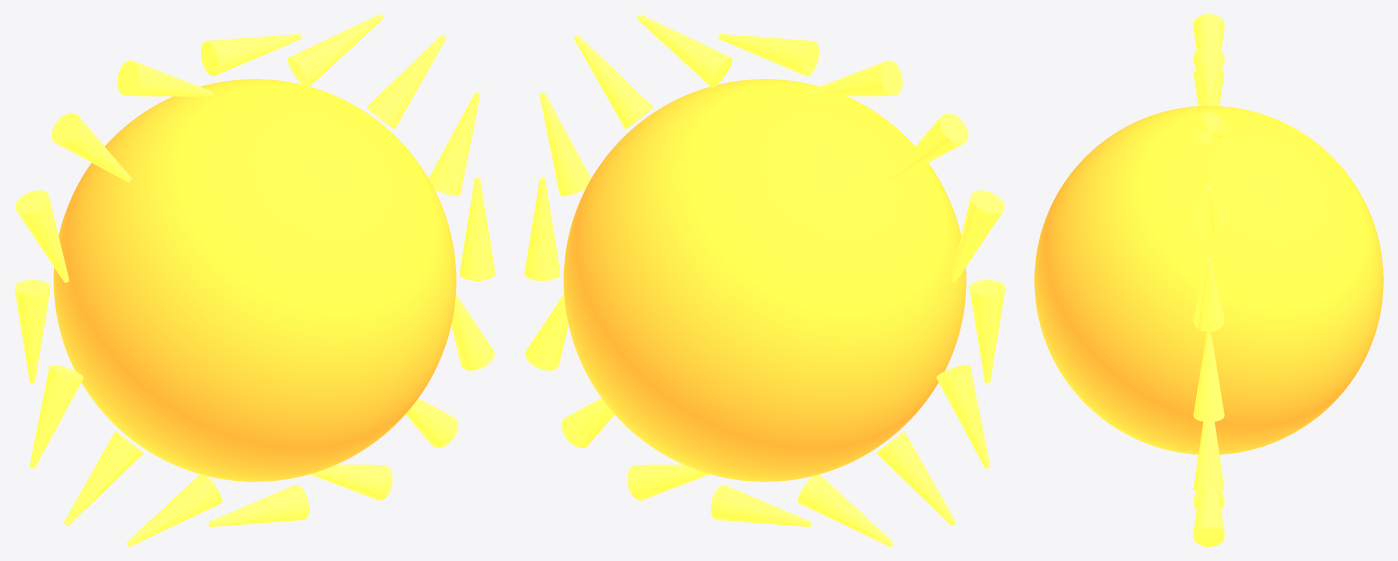
The model's file is sol.glb.
The picture shows the model from 3 angles, left to right: view 1: azimuth 30°, elevation 25°; view 2: azimuth 150°, elevation 25°; view 3: azimuth 270°, elevation 25°; orthographic projection. The views are drawn at different scales.
Visible parts, largest first — view 1: Sol_HighPoly, Rayo_09, Rayo_03, Rayo_11, Rayo_01, Rayo_00, Rayo_08, Rayo_04, Rayo_12, Rayo_02, Rayo_10, Rayo_07 (+5 smaller); view 2: Sol_HighPoly, Rayo_09, Rayo_03, Rayo_11, Rayo_01, Rayo_00, Rayo_08, Rayo_04, Rayo_12, Rayo_02, Rayo_10, Rayo_07 (+5 smaller); view 3: Sol_HighPoly, Rayo_00, Rayo_15, Rayo_01, Rayo_14, Rayo_04, Rayo_02, Rayo_05, Rayo_03, Rayo_07.
Part boxes in pixels (<box>): Sol_HighPoly: <box>53,79,456,481</box>; Rayo_09: <box>29,364,83,468</box>; Rayo_03: <box>287,14,383,87</box>; Rayo_11: <box>126,474,222,546</box>; Rayo_01: <box>428,92,480,196</box>; Rayo_00: <box>459,177,495,280</box>; Rayo_08: <box>14,280,50,383</box>; Rayo_04: <box>201,34,301,76</box>; Rayo_12: <box>208,484,308,526</box>; Rayo_02: <box>366,35,445,129</box>; Rayo_10: <box>64,431,143,525</box>; Rayo_07: <box>15,190,69,282</box>; Sol_HighPoly: <box>563,79,966,481</box>; Rayo_09: <box>936,364,990,468</box>; Rayo_03: <box>636,14,732,87</box>; Rayo_11: <box>797,474,893,546</box>; Rayo_01: <box>539,92,591,196</box>; Rayo_00: <box>524,177,560,280</box>; Rayo_08: <box>969,280,1005,383</box>; Rayo_04: <box>718,34,818,76</box>; Rayo_12: <box>711,484,811,526</box>; Rayo_02: <box>574,35,653,129</box>; Rayo_10: <box>876,431,955,525</box>; Rayo_07: <box>950,190,1004,282</box>; Sol_HighPoly: <box>1034,106,1383,454</box>; Rayo_00: <box>1193,332,1224,422</box>; Rayo_15: <box>1193,421,1224,490</box>; Rayo_01: <box>1193,258,1224,332</box>; Rayo_14: <box>1193,490,1224,537</box>; Rayo_04: <box>1193,45,1224,99</box>; Rayo_02: <box>1193,186,1224,234</box>; Rayo_05: <box>1193,14,1224,48</box>; Rayo_03: <box>1193,112,1224,143</box>; Rayo_07: <box>1193,70,1224,105</box>.
Size of the model in its own units: 3.88 by 3.88 by 2.84.
